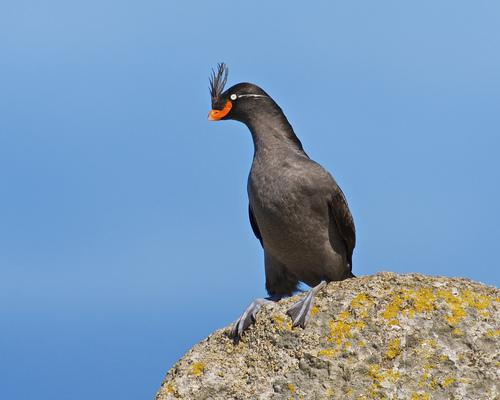005.Crested_Auklet: (206, 60, 365, 301)
